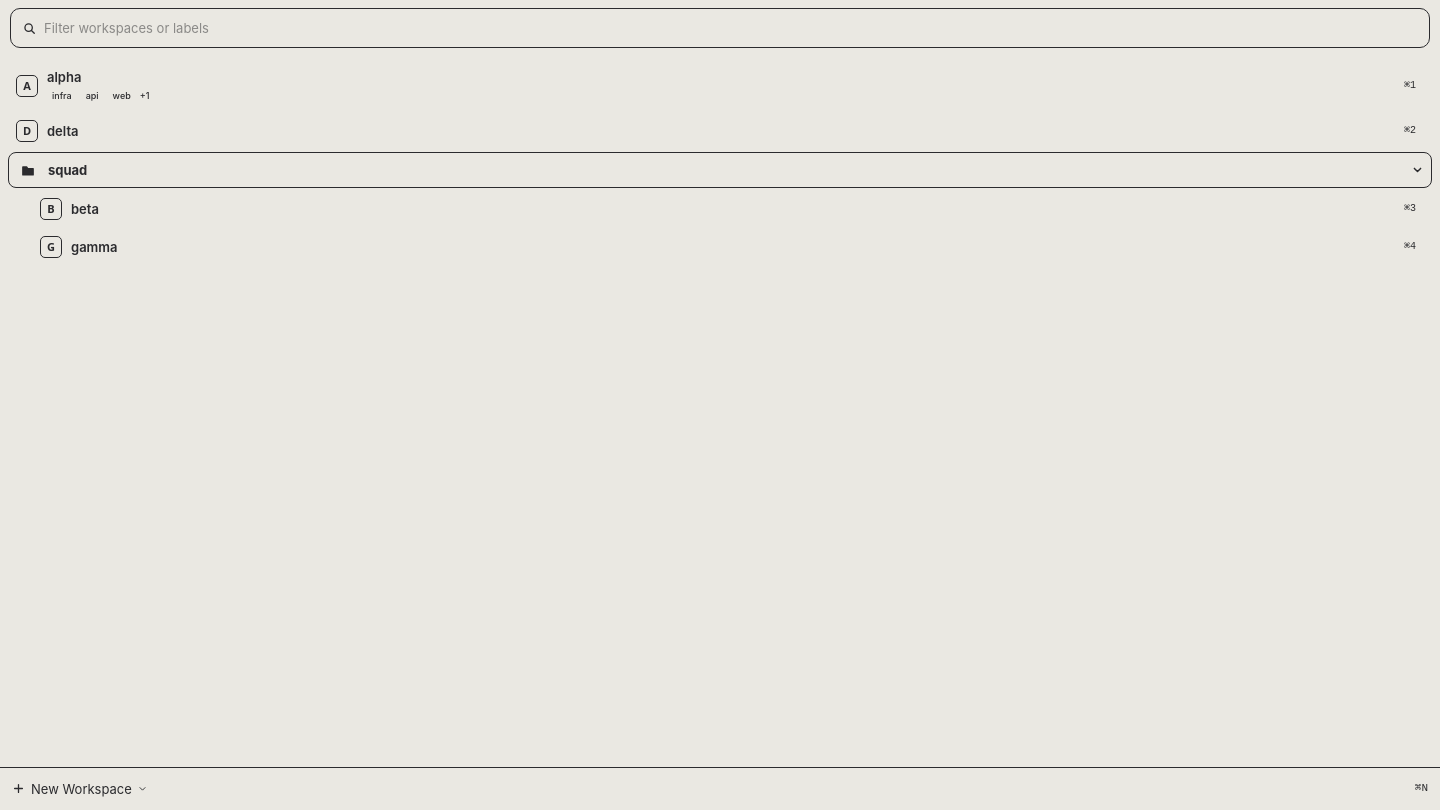
Test: group collapse › hides members, re-indexes ⌘N badges and reports the toggle
This screenshot has width=1440, height=810.
Step 1. Click the button with test id "group-chevron" → (1418, 170), box top-left (1407, 160), bottom-right (1428, 180)
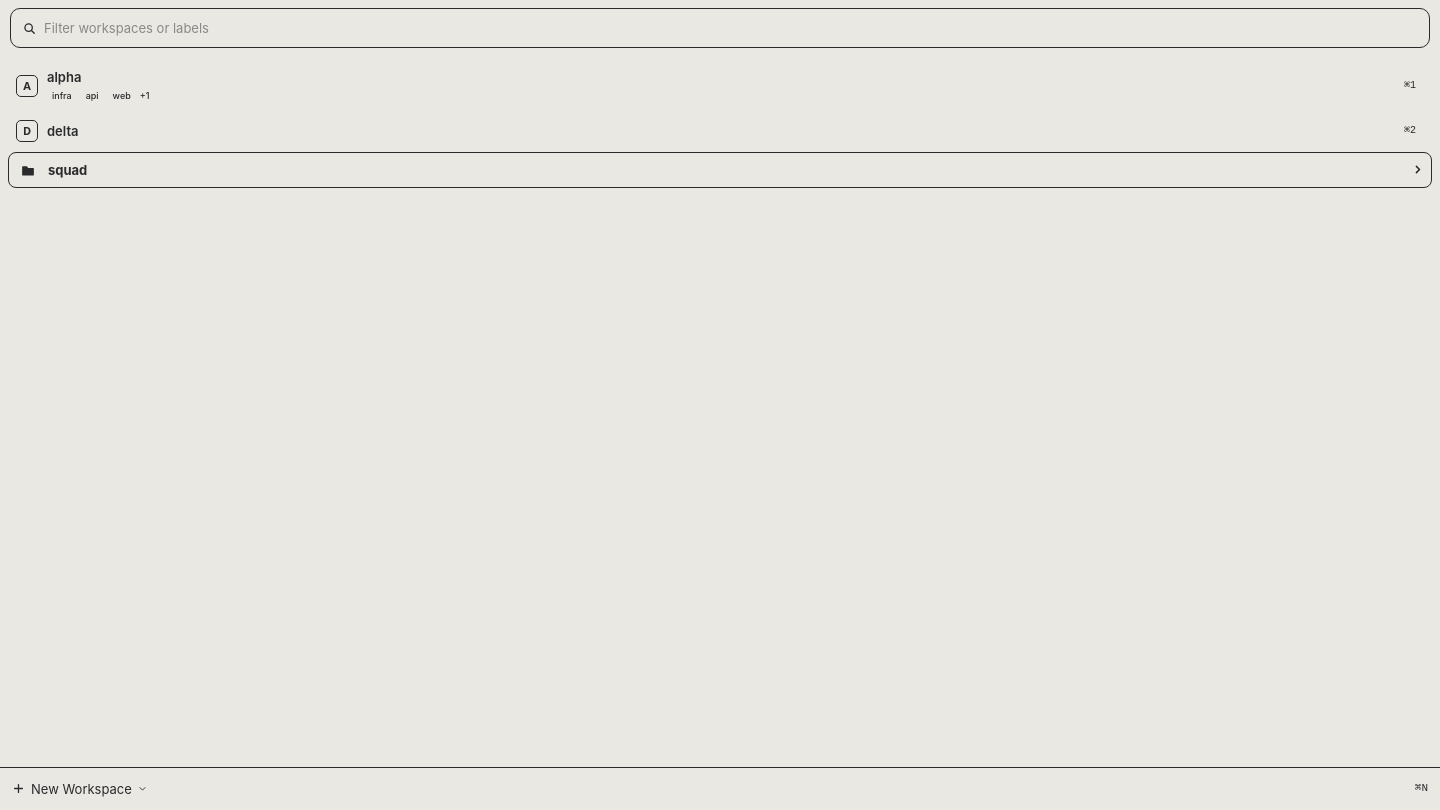
Result: the elements with test id "cmd-badge" read "⌘1", "⌘2", in this order at top-left (1404, 79), bottom-right (1416, 93); top-left (1404, 124), bottom-right (1416, 138)
